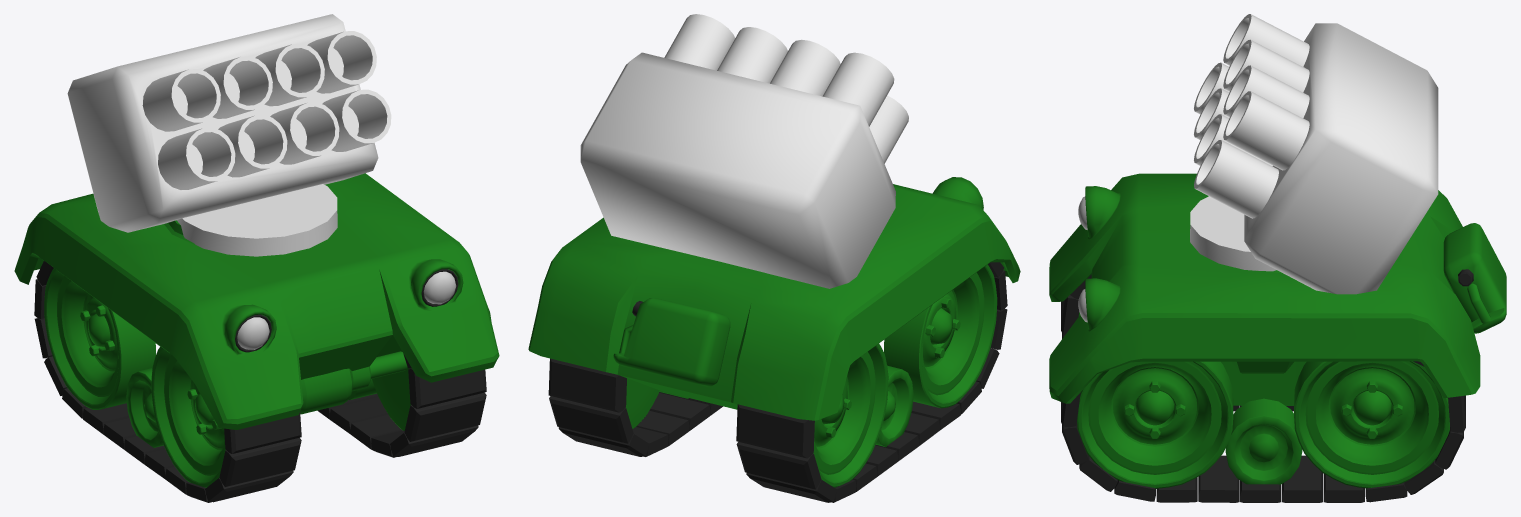
The model's file is Rocket2.FBX.
3 renders of one model, left to right at view 1: azimuth 30°, elevation 25°; view 2: azimuth 150°, elevation 25°; view 3: azimuth 270°, elevation 25°, orthographic.
Visible parts, largest first — view 1: TankChassis, ChamferBox001, TankTracksRight, TankTracksLeft; view 2: ChamferBox001, TankChassis, TankTracksRight, TankTracksLeft; view 3: TankChassis, ChamferBox001, TankTracksLeft, TankTracksRight.
Part boxes in pixels (box(x1,y1,x2,y2)): TankChassis: box(14, 173, 499, 447); ChamferBox001: box(67, 14, 391, 256); TankTracksRight: box(34, 261, 301, 502); TankTracksLeft: box(317, 335, 486, 457); ChamferBox001: box(580, 14, 908, 288); TankChassis: box(528, 177, 1020, 447); TankTracksRight: box(736, 262, 1007, 502); TankTracksLeft: box(548, 358, 722, 456); TankChassis: box(1049, 173, 1506, 484); ChamferBox001: box(1190, 14, 1438, 294); TankTracksLeft: box(1061, 361, 1465, 502); TankTracksRight: box(1061, 274, 1293, 411).
Size of the model in its own units: 71.56 by 86.87 by 93.14.
